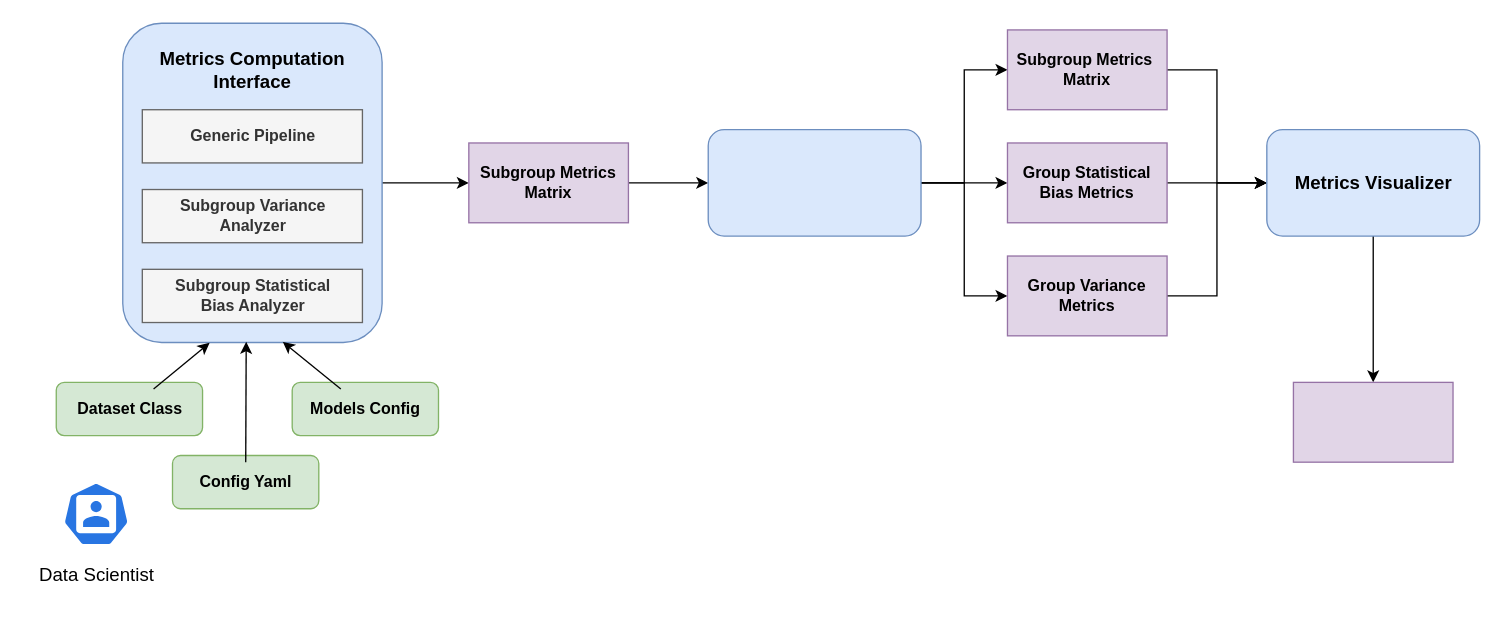
Image size: 1503x618. Some labels were removed from this diagram. Here are the shapes that lost their labels. From the top down, the box of each, then its label:
(707, 128, 921, 236): Metrics Composer
(1292, 381, 1453, 462): Final Report & Visualizations
